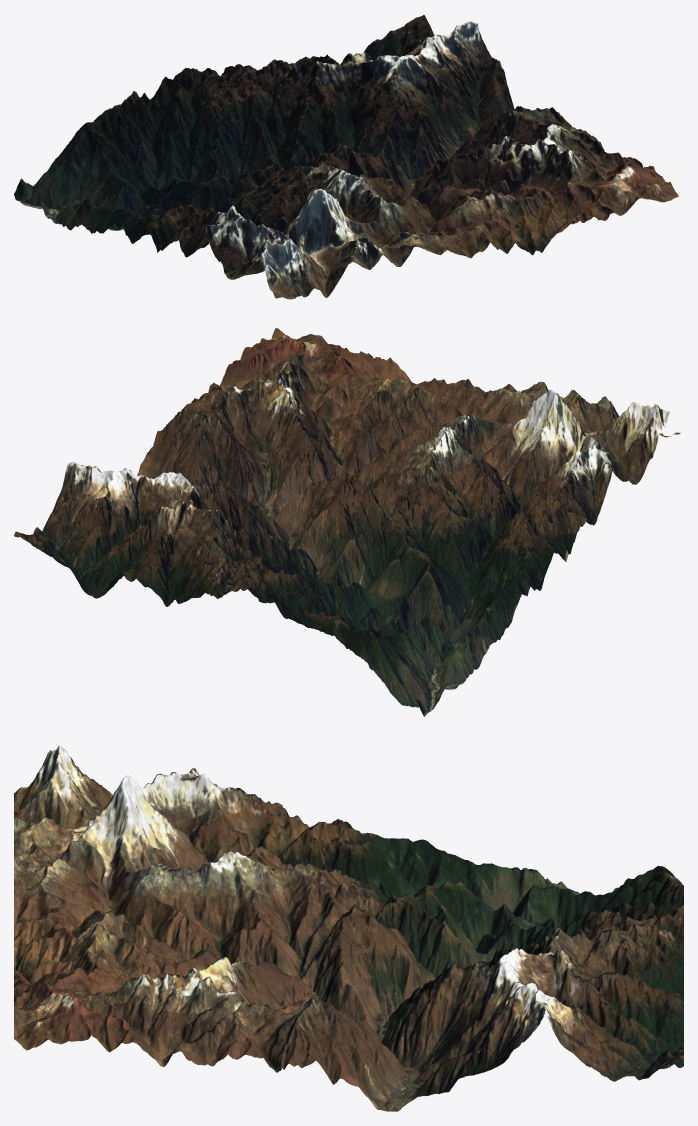
The model's file is west-terrain.glb.
The picture shows the model from 3 angles, top to bottom: view 1: azimuth 30°, elevation 25°; view 2: azimuth 150°, elevation 25°; view 3: azimuth 270°, elevation 25°; orthographic projection. The views are drawn at different scales.
Parts seen in each view (by area): view 1: west-terrain; view 2: west-terrain; view 3: west-terrain.
Part boxes in pixels (<box>): west-terrain: <box>14,15,678,299</box>; west-terrain: <box>14,328,680,716</box>; west-terrain: <box>14,745,683,1111</box>.
Bounding box in the file's own units: 141 × 48.59 × 156.
Materials: 1 (1 with a texture image).
